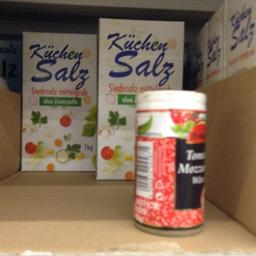spices: (93, 14, 184, 180), (130, 88, 207, 235), (19, 28, 96, 172)
